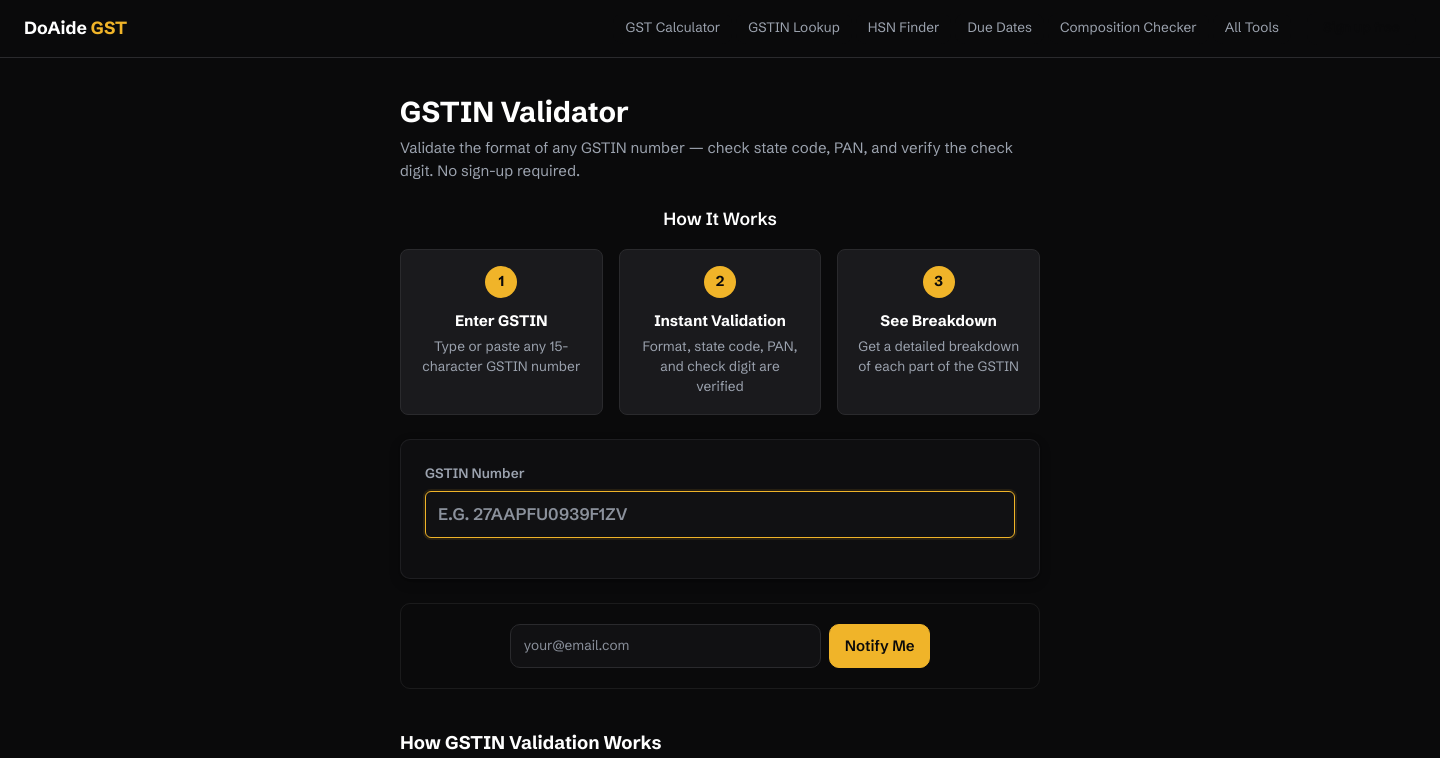
Scenario: GstinValidatorPage › shows error for invalid state code
Type "00AAPFU0939F1ZV" into the field with placeholder "e.g. 27AAPFU0939F1ZV" at (720, 514), box [425,490,1015,538]
(page scrolled)
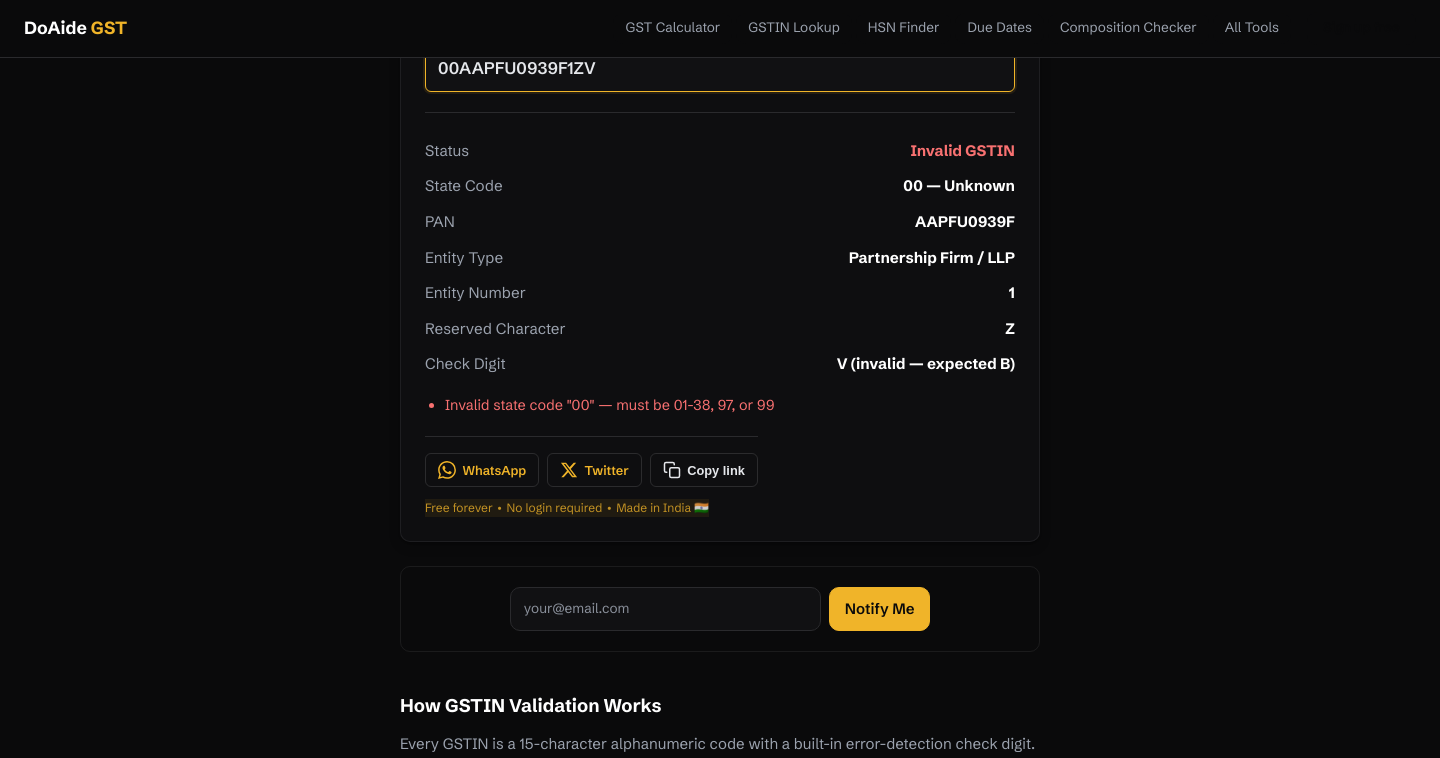
Expected: the text "Invalid GSTIN" is shown, [910,140,1015,163]
Expected: the list item "Invalid state code \"00\" — must be 01-38, 97, or 99" is shown, [445,396,774,414]
